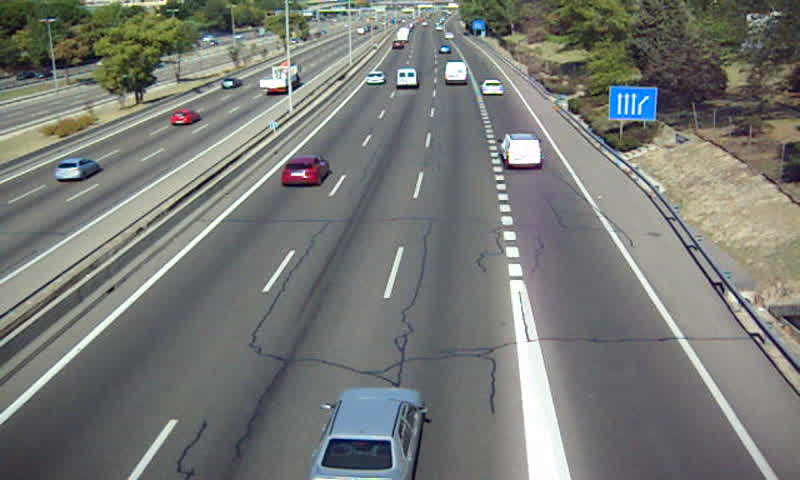car: (312, 387, 423, 480), (280, 155, 329, 184), (480, 79, 504, 96), (364, 70, 385, 85)
van: (501, 133, 542, 169), (444, 61, 469, 85), (395, 68, 418, 90)
